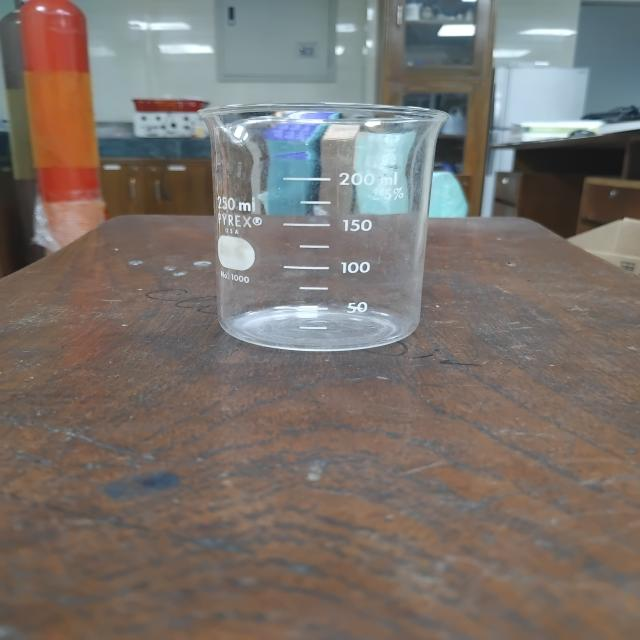Beaker: (167, 72, 479, 384)
